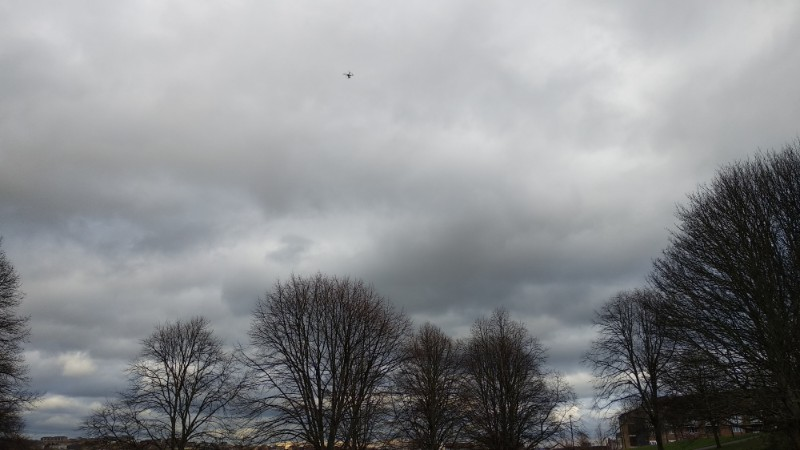drone: (345, 72, 354, 79)
